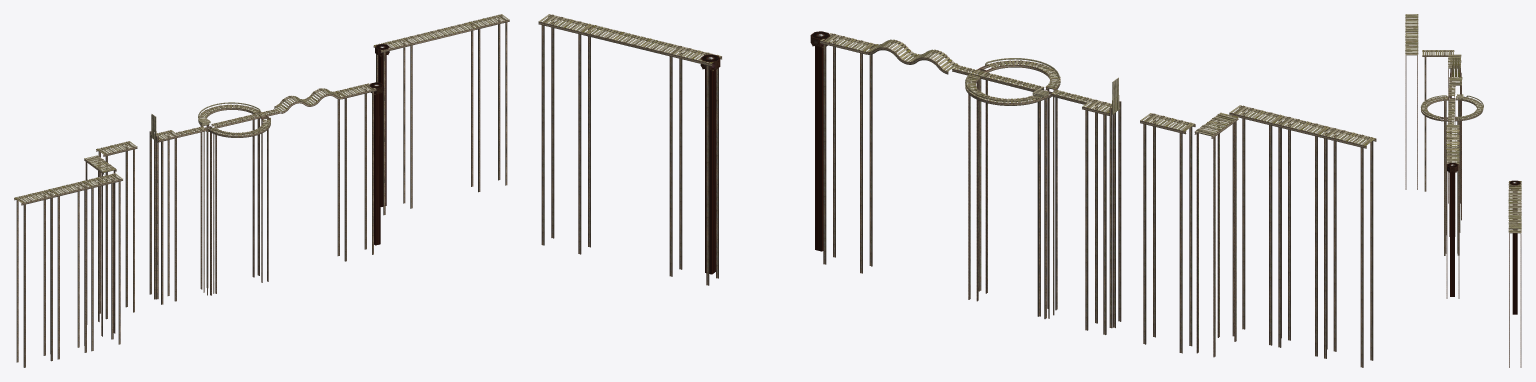
3 renders of one model, left to right at view 1: azimuth 30°, elevation 25°; view 2: azimuth 150°, elevation 25°; view 3: azimuth 270°, elevation 25°, orthographic. The views are drawn at different scales.
Visible parts, largest first — view 1: ramp_01__7_, ramp_01__15_, ramp_001__3__1, ramp_027, ramp_01__13_, ramp_01__9_, ramp_01__8_, ramp_01__12_, ramp_01__14_, rampp__001, ramp_01__10_, hakkero__1_ (+3 smaller); view 2: ramp_01__12_, ramp_01__7_, ramp_01__15_, ramp_01__14_, ramp_01__13_, ramp_027, rampp__001, ramp_001__3__1, ramp_01__9_, ramp_01__10_, ramp_01__8_, hakkero (+3 smaller); view 3: ramp_001__3__1, rampp__001, hakkero__1_, ramp_01__13_, hakkero, ramp_01__10_, ramp_01__9_, ramp_01__15_, ramp_01__12_, ramp_027, ramp_01__8_, ramp_0004 (+8 smaller).
Boxes of the visible parts, x1,y1,x2,y2 form: ramp_01__7_: [14, 189, 55, 367]; ramp_01__15_: [468, 14, 509, 192]; ramp_001__3__1: [199, 104, 261, 289]; ramp_027: [154, 130, 179, 304]; ramp_01__13_: [335, 83, 376, 261]; ramp_01__9_: [82, 173, 122, 351]; ramp_01__8_: [48, 181, 89, 359]; ramp_01__12_: [96, 141, 137, 319]; ramp_01__14_: [373, 37, 414, 215]; rampp__001: [208, 115, 270, 295]; ramp_01__10_: [84, 155, 116, 336]; hakkero__1_: [369, 82, 383, 245]; ramp_01__12_: [1140, 113, 1195, 353]; ramp_01__7_: [1320, 127, 1376, 367]; ramp_01__15_: [538, 14, 593, 254]; ramp_01__14_: [666, 45, 721, 285]; ramp_01__13_: [820, 33, 875, 273]; ramp_027: [1082, 99, 1115, 334]; rampp__001: [977, 60, 1060, 310]; ramp_001__3__1: [965, 75, 1049, 318]; ramp_01__9_: [1229, 105, 1284, 345]; ramp_01__10_: [1194, 112, 1238, 357]; ramp_01__8_: [1275, 116, 1330, 356]; hakkero: [700, 54, 720, 274]; ramp_001__3__1: [1455, 96, 1483, 255]; rampp__001: [1420, 96, 1448, 255]; hakkero__1_: [1447, 163, 1458, 296]; ramp_01__13_: [1446, 150, 1459, 298]; hakkero: [1509, 180, 1520, 314]; ramp_01__10_: [1422, 50, 1454, 191]; ramp_01__9_: [1405, 41, 1418, 189]; ramp_01__15_: [1508, 219, 1521, 367]; ramp_01__12_: [1448, 54, 1461, 203]; ramp_027: [1449, 77, 1462, 220]; ramp_01__8_: [1405, 27, 1418, 41]; ramp_0004: [1449, 98, 1455, 236].
Size of the model in its own units: 8133 by 2698 by 1807.
